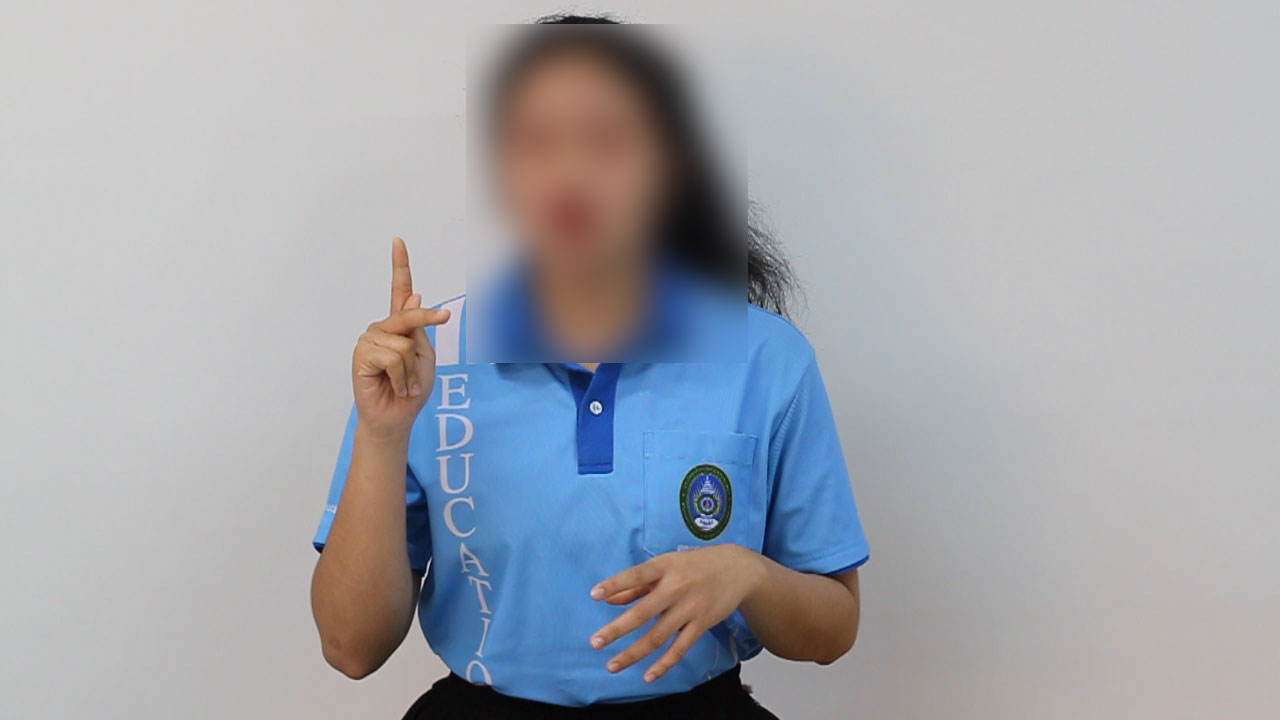ko: (301, 215, 497, 448)
